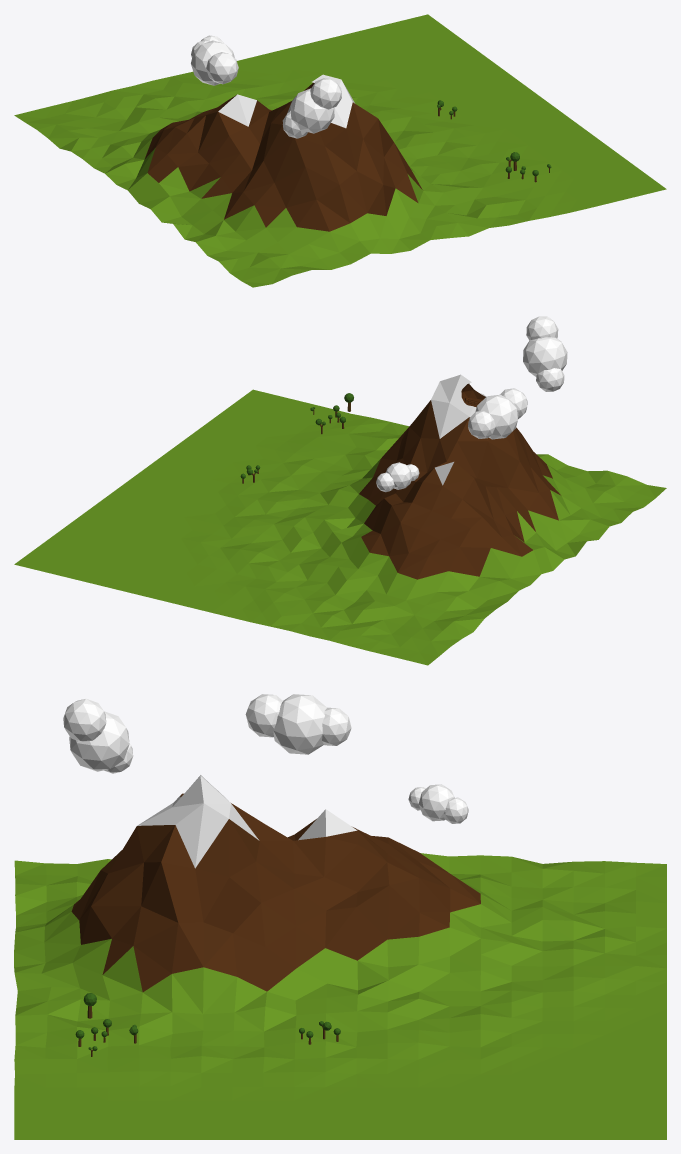
The model's file is cloud.glb.
3 views of the same model, one above another, from view 1: azimuth 30°, elevation 25°; view 2: azimuth 150°, elevation 25°; view 3: azimuth 270°, elevation 25° (orthographic). The views are drawn at different scales.
Parts seen in each view (by area): view 1: Plane.004, Plane.006, Plane, Mountain top.001, Mountain top.002; view 2: Plane.004, Plane.006, Plane, Mountain top.002, Mountain top.001, Plane.038; view 3: Plane.004, Plane, Mountain top.002, Plane.006, Mountain top.001, Plane.038.
Boxes of the visible parts, x1,y1,x2,y2 form: Plane.004: (14, 14, 666, 287); Plane.006: (282, 77, 341, 138); Plane: (191, 40, 238, 85); Mountain top.001: (271, 82, 377, 145); Mountain top.002: (287, 74, 354, 128); Plane.004: (14, 389, 666, 665); Plane.006: (523, 316, 567, 391); Plane: (468, 388, 527, 439); Mountain top.002: (431, 374, 485, 438); Mountain top.001: (409, 383, 489, 441); Plane.038: (376, 462, 419, 492); Plane.004: (14, 809, 666, 1139); Plane: (245, 694, 351, 754); Mountain top.002: (137, 775, 259, 868); Plane.006: (63, 698, 133, 773); Mountain top.001: (137, 793, 263, 877); Plane.038: (408, 784, 468, 823).
Size of the model in its own units: 80 by 30.95 by 80.05.
